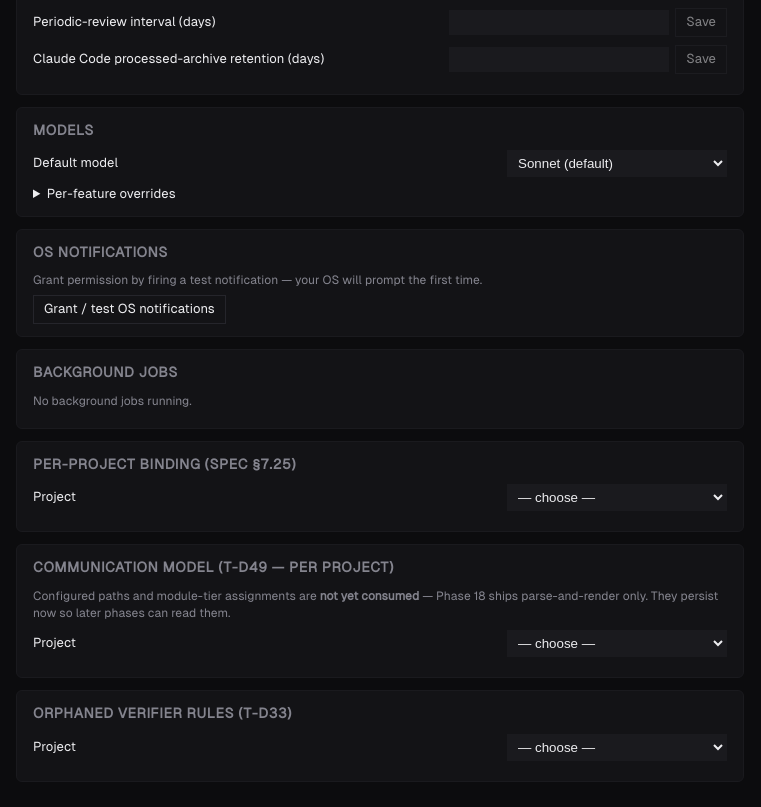
Test: Phase 15 — settings panel (SPEC §7.25) › renders the throughline-status block when the backend supplies the field
(page scrolled)
Step 1. Select "demo" in the dropdown with test id "project-select" → point(617, 498), box 507,484 -> 727,511
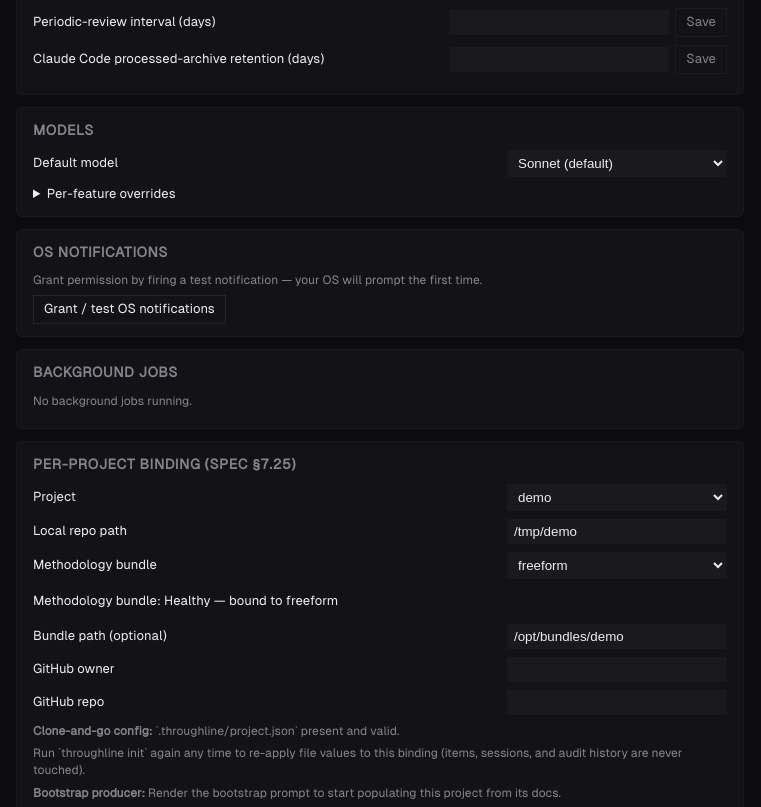
Expected: the element with test id "throughline-status" shows "Clone-and-go config:", 33,724 -> 152,738
